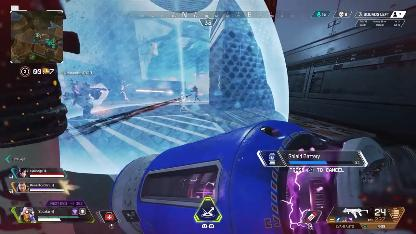Target: (66, 79, 98, 117), (191, 84, 201, 101)
